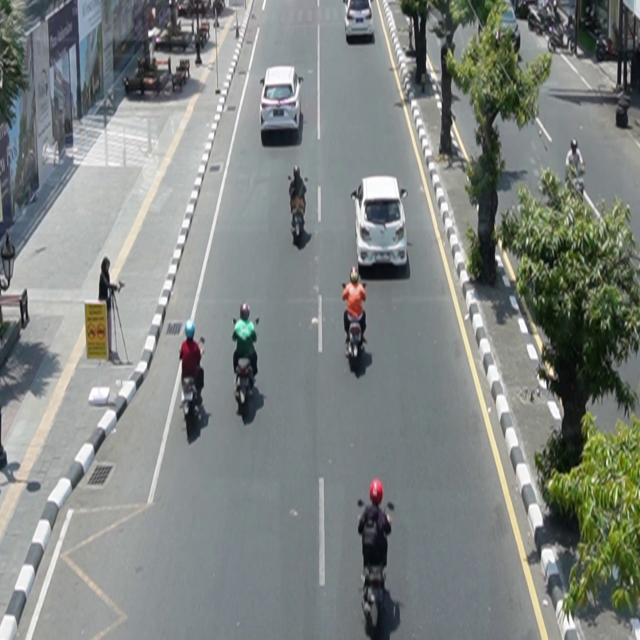car: (352, 176, 409, 271), (261, 66, 305, 133), (344, 1, 375, 41)
